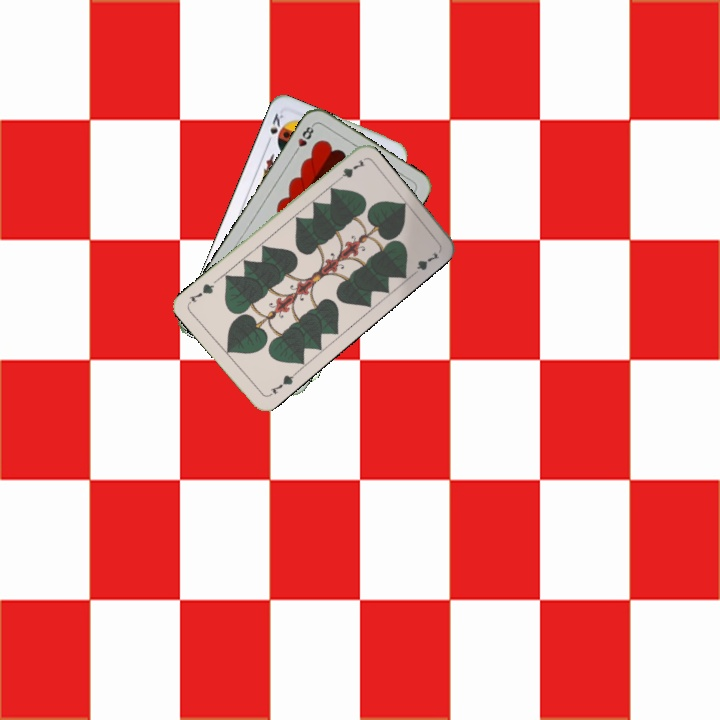G7: (330, 155, 367, 186), (264, 369, 298, 399)
H8: (290, 120, 317, 157)
SK: (263, 109, 287, 147)
